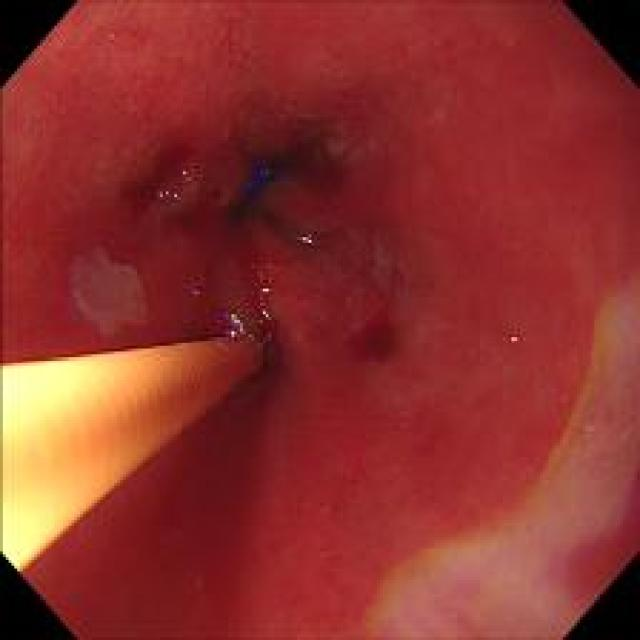color misalignment: (231, 158, 285, 211), (149, 155, 196, 212), (211, 306, 254, 339), (250, 285, 280, 331), (494, 326, 530, 356), (182, 279, 211, 311)
contrast: (202, 92, 420, 444)
instrument: (0, 331, 269, 574)
specularity: (300, 234, 311, 245)
